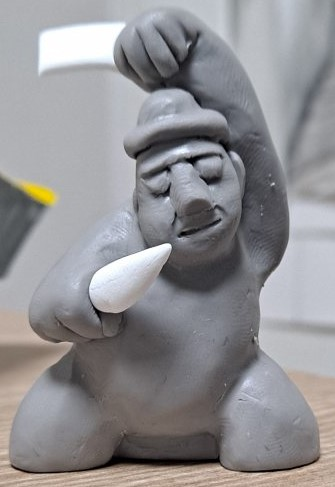Stone Statue: (5, 5, 329, 474)
